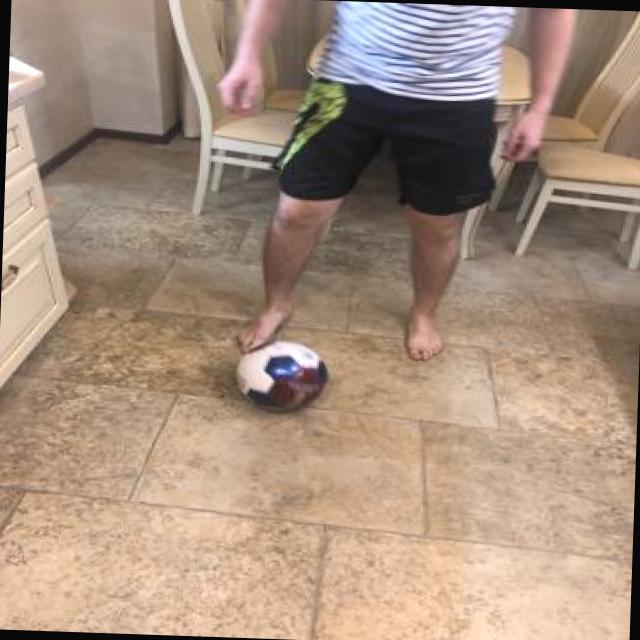Soccer Ball: (229, 336, 330, 414)
